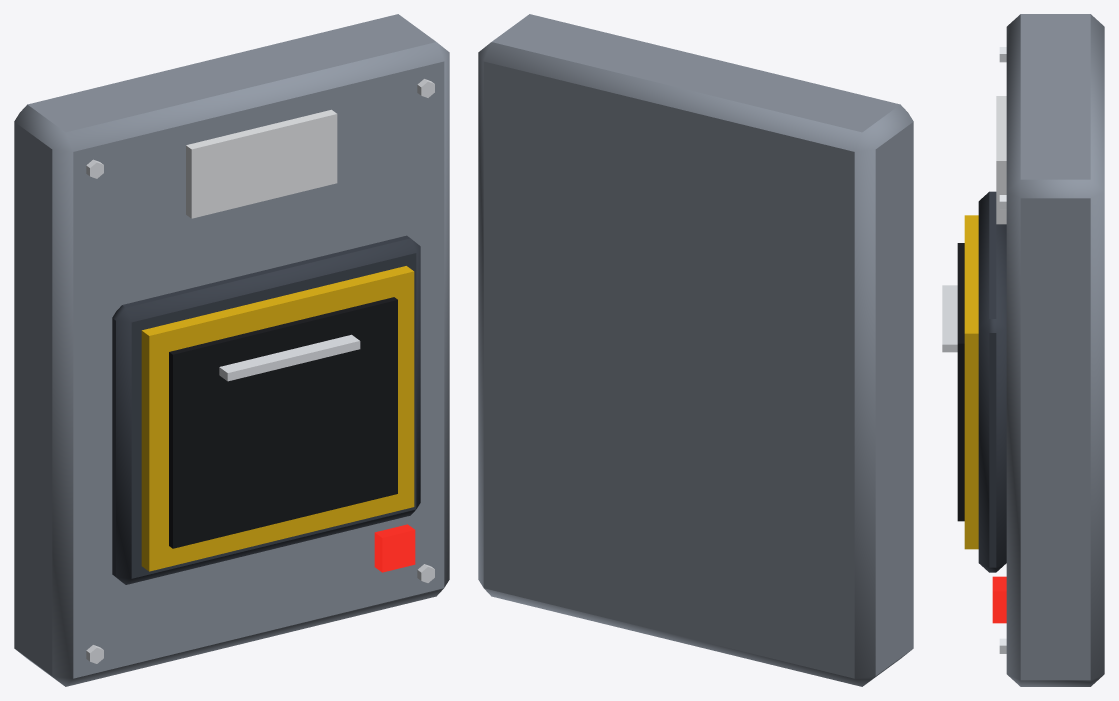
Rendered from galley_trash_chute.glb.
The picture shows the model from 3 angles, left to right: view 1: azimuth 30°, elevation 25°; view 2: azimuth 150°, elevation 25°; view 3: azimuth 270°, elevation 25°; orthographic projection. The views are drawn at different scales.
Parts seen in each view (by area): view 1: galley_trash_chute; view 2: galley_trash_chute; view 3: galley_trash_chute.
Part boxes in pixels (x1,y1,x2,y2): galley_trash_chute: [14, 14, 449, 686]; galley_trash_chute: [478, 14, 913, 686]; galley_trash_chute: [942, 14, 1104, 686].
Size of the model in its own units: 0.6 by 0.8 by 0.232.
